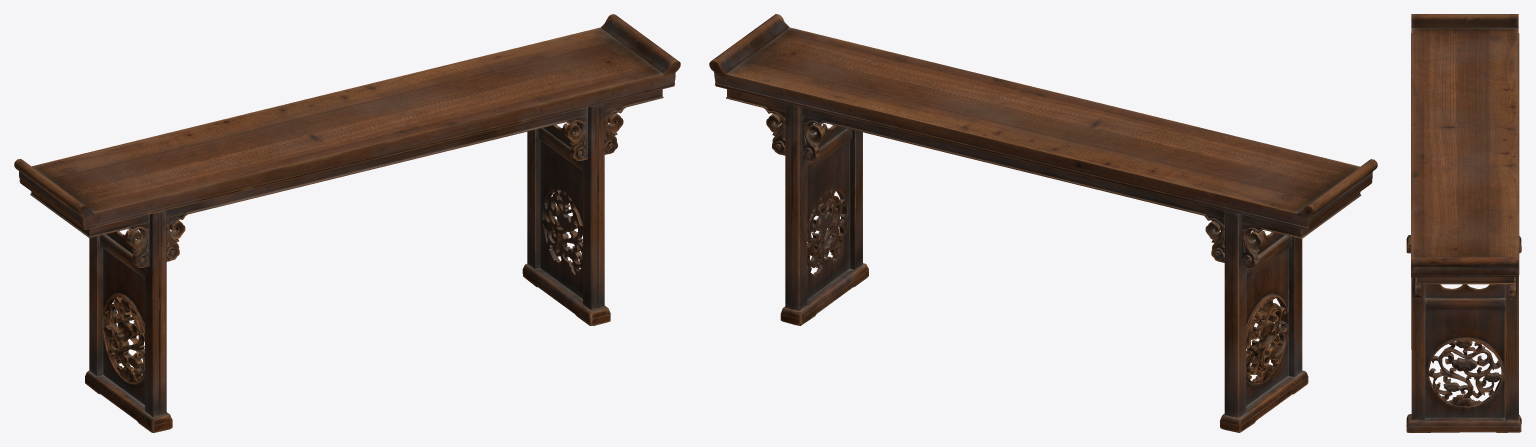
Rendered from chinese_console_table.glb.
The picture shows the model from 3 angles, left to right: view 1: azimuth 30°, elevation 25°; view 2: azimuth 150°, elevation 25°; view 3: azimuth 270°, elevation 25°; orthographic projection. The views are drawn at different scales.
Parts seen in each view (by area): view 1: chinese_console_table; view 2: chinese_console_table; view 3: chinese_console_table.
Boxes of the visible parts, box(x1,y1,x2,y2) form: chinese_console_table: box(14, 14, 680, 432); chinese_console_table: box(709, 14, 1377, 432); chinese_console_table: box(1406, 14, 1521, 432).
Size of the model in its own units: 1.72 by 0.6607 by 0.3386.
Materials: 1 (1 with a texture image).
